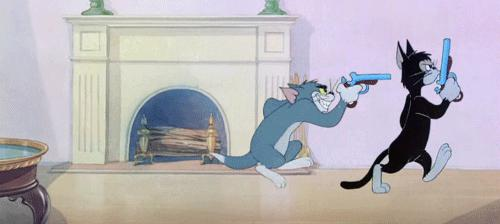tom: (208, 77, 367, 189)
